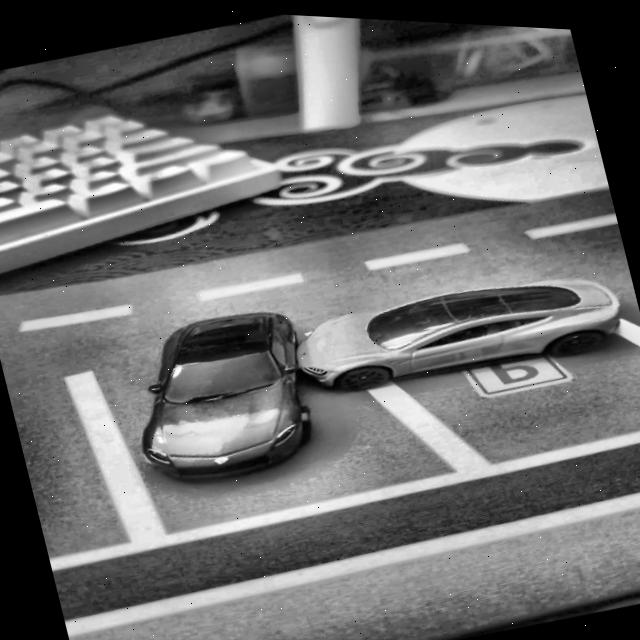car: (287, 239, 631, 417), (114, 292, 329, 497)
